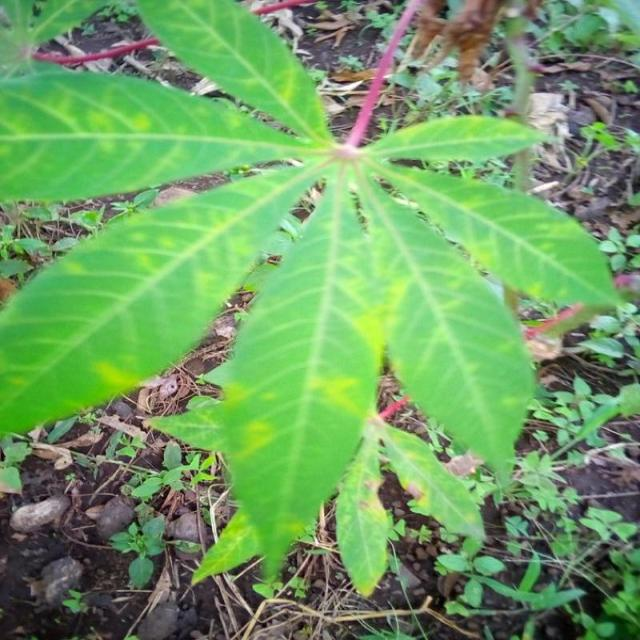cassava leaf: (0, 0, 625, 601), (145, 162, 387, 599), (0, 158, 323, 436)
